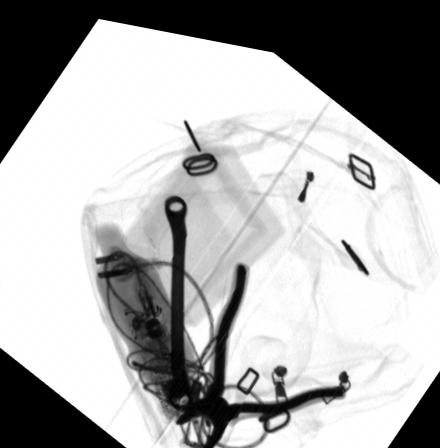Pliers: (172, 253, 345, 448)
Wrench: (163, 188, 194, 403)
